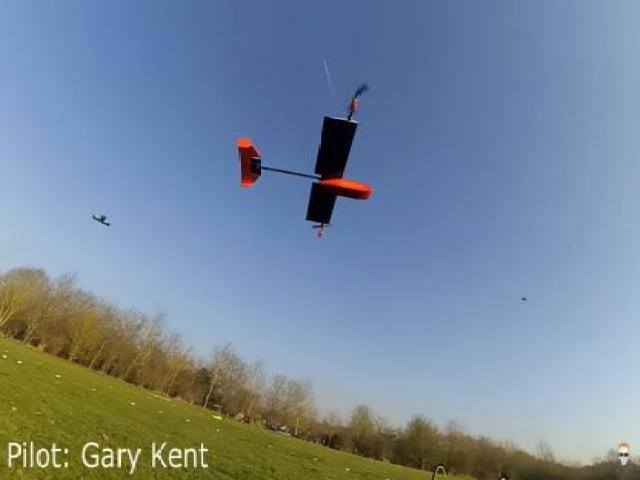uav: (231, 79, 391, 246)
